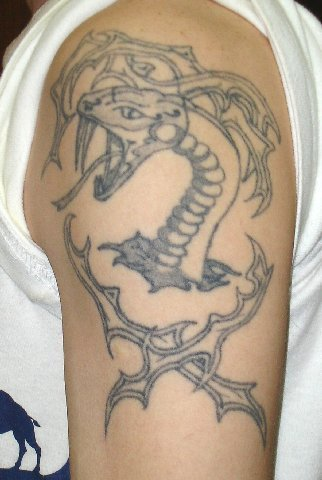tatu7_zmeya: (59, 47, 249, 304)
